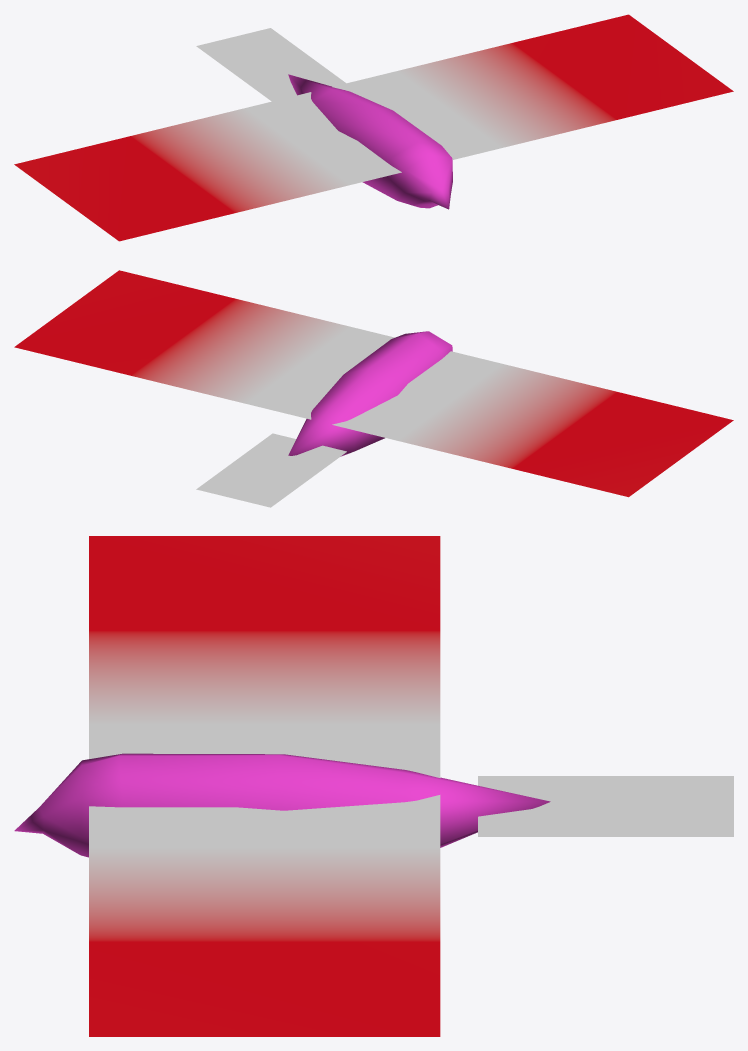
Rendered from VFX_Bird_LowPoly.fbx.
The picture shows the model from 3 angles, top to bottom: view 1: azimuth 30°, elevation 25°; view 2: azimuth 150°, elevation 25°; view 3: azimuth 270°, elevation 25°; orthographic projection. The views are drawn at different scales.
Parts seen in each view (by area): view 1: Bird_Low, Bird_Low.001; view 2: Bird_Low, Bird_Low.001; view 3: Bird_Low, Bird_Low.001.
Part boxes in pixels (<box>): Bird_Low: <box>14,14,733,241</box>; Bird_Low.001: <box>288,74,452,209</box>; Bird_Low: <box>14,270,733,507</box>; Bird_Low.001: <box>288,331,452,456</box>; Bird_Low: <box>89,536,733,1036</box>; Bird_Low.001: <box>14,753,550,857</box>.
Bounding box in the file's own units: 35.12 × 4.1 × 21.34.
